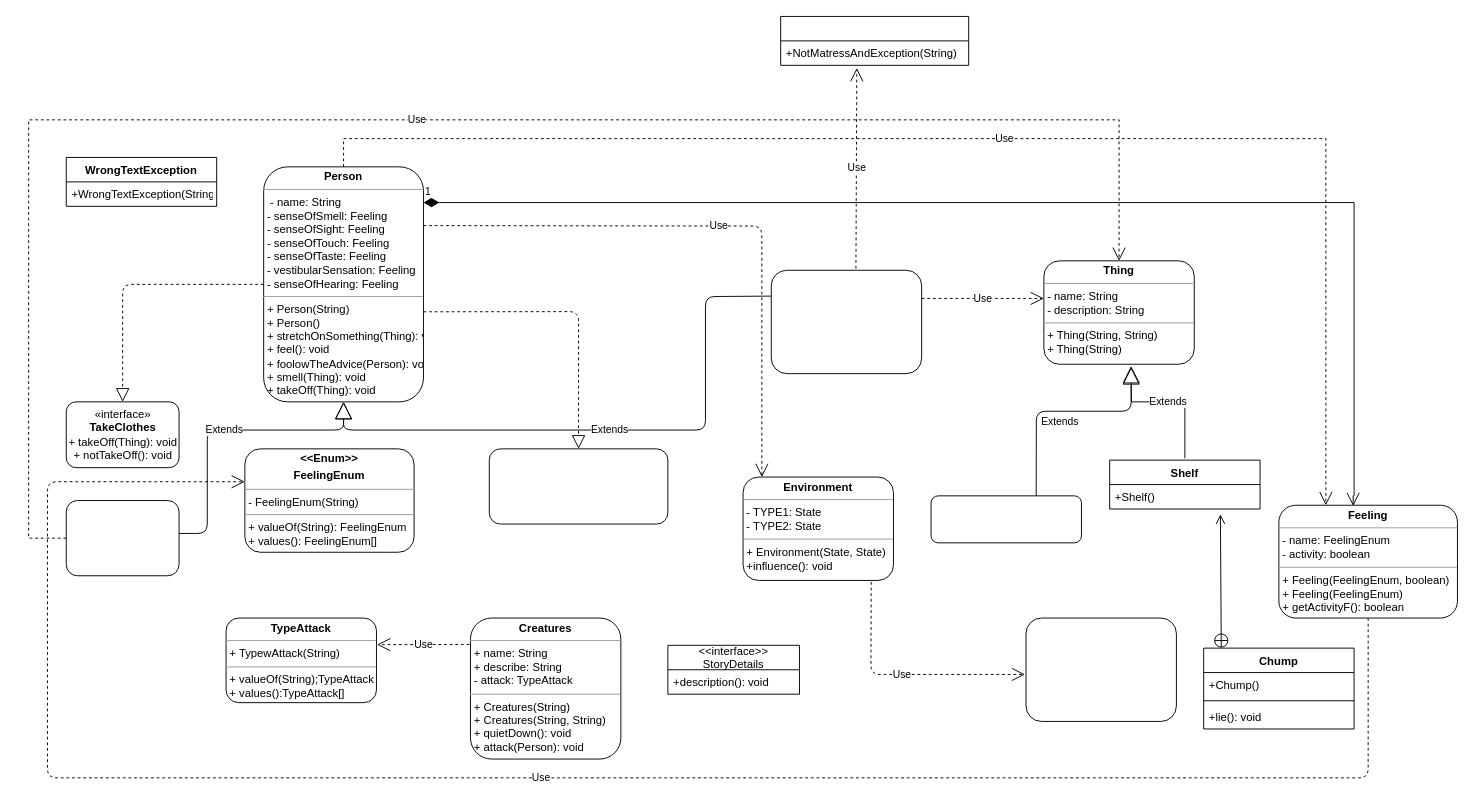
The diagram is 1474 pixels wide and 807 high, and some of its shapes have lost their labels. Each missing label, with the box of its shape:
<<Enum>> State - State(String) + values(): State[] + valueOf(String); State: (1025, 617, 1176, 721)
<<Interface>> PersonInt + feel(): void + smell(Thing): void: (488, 448, 668, 524)
Clothes + Clothes(String): (930, 495, 1081, 543)
Dunno + Dunno() + itch(); void + decideToGoToBed(); void + rend(Thing): void: (770, 269, 922, 374)
NotMatressAndPillowException: (780, 16, 969, 65)
Obstinate + Obstinate(String) + said(Person):void: (65, 500, 179, 576)
